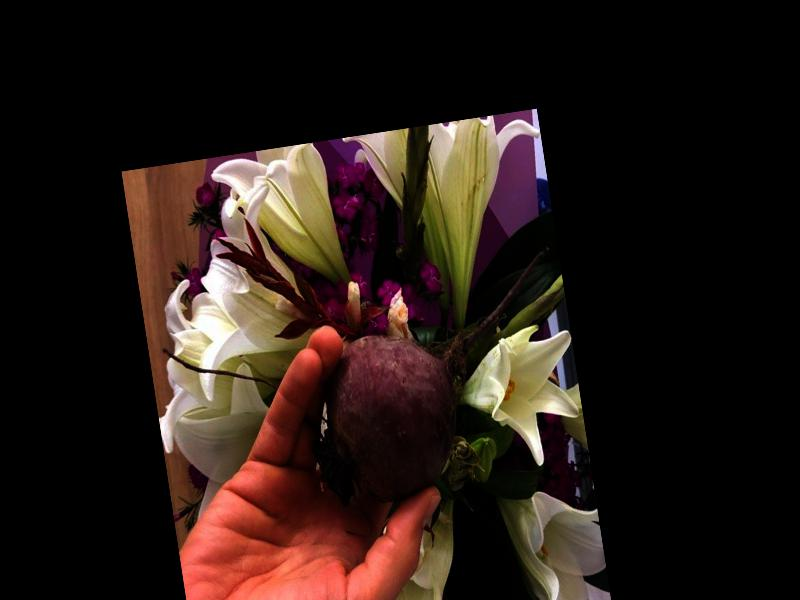Beet: (288, 245, 580, 511)
